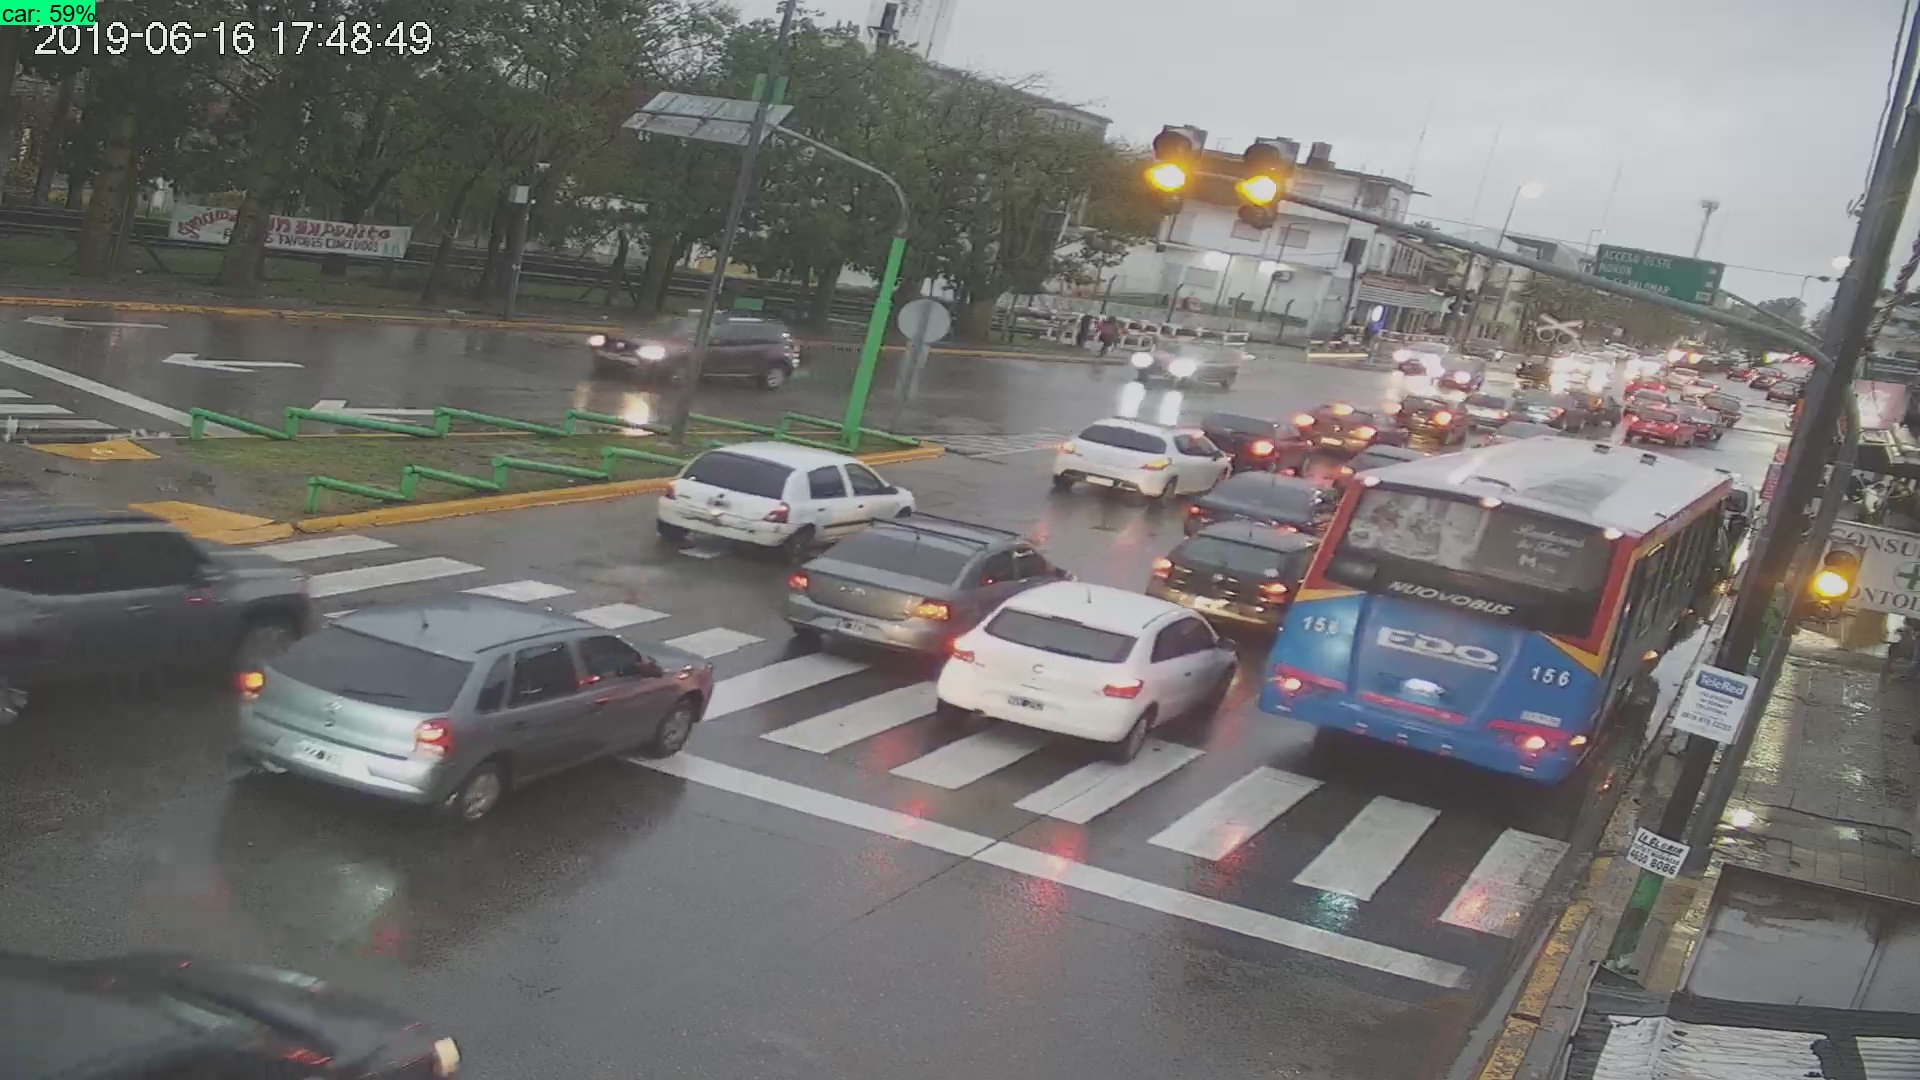bus: (1254, 429, 1750, 789)
car: (227, 546, 717, 827), (1, 491, 318, 746), (4, 932, 469, 1080), (932, 568, 1240, 767), (777, 502, 1077, 654), (655, 430, 920, 556), (582, 293, 807, 409), (1044, 396, 1232, 509), (1116, 328, 1255, 398)
